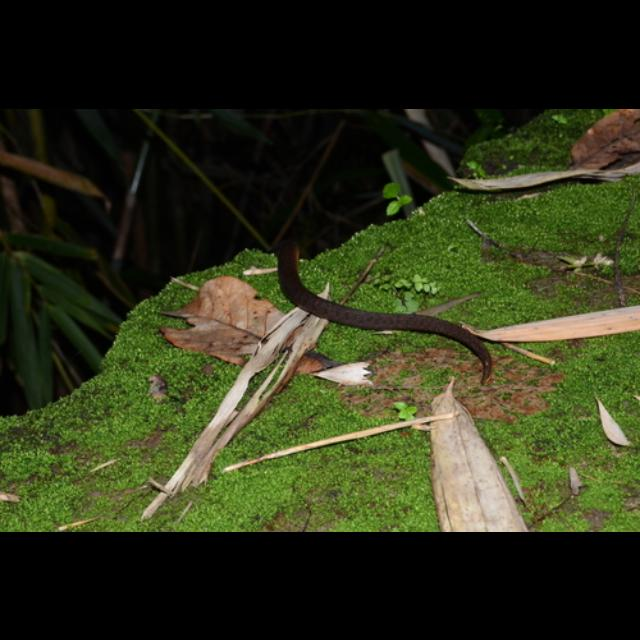snake: (274, 234, 506, 386)
